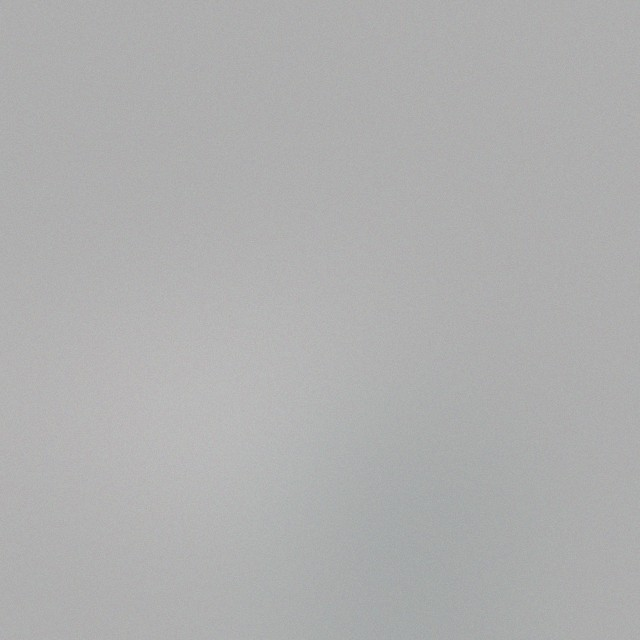smoke: (131, 273, 437, 579)
